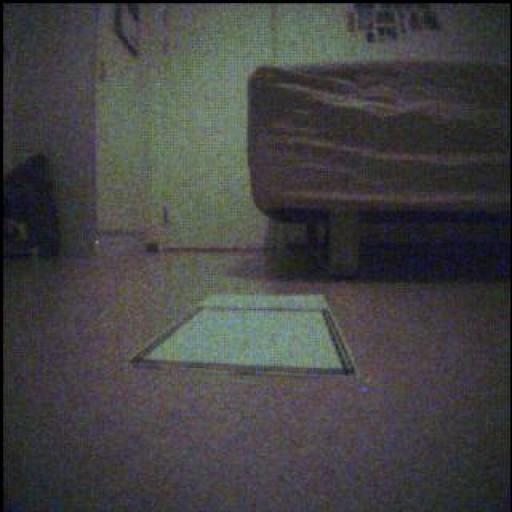pad: (134, 296, 356, 376)
